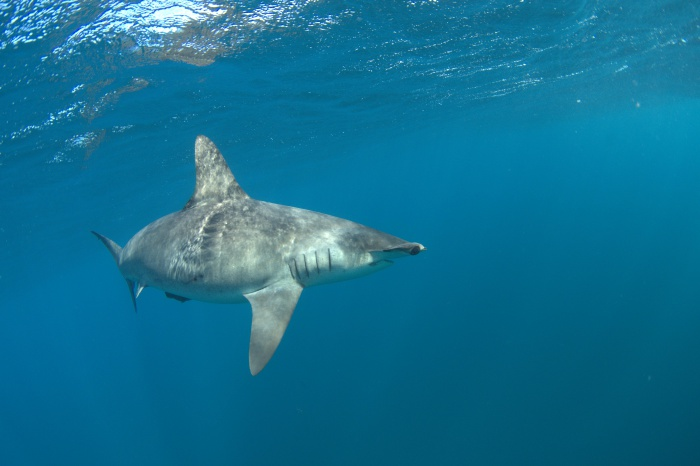Hammer: (68, 124, 449, 383)
